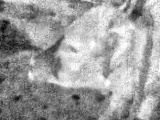eye: (64, 41, 81, 57)
